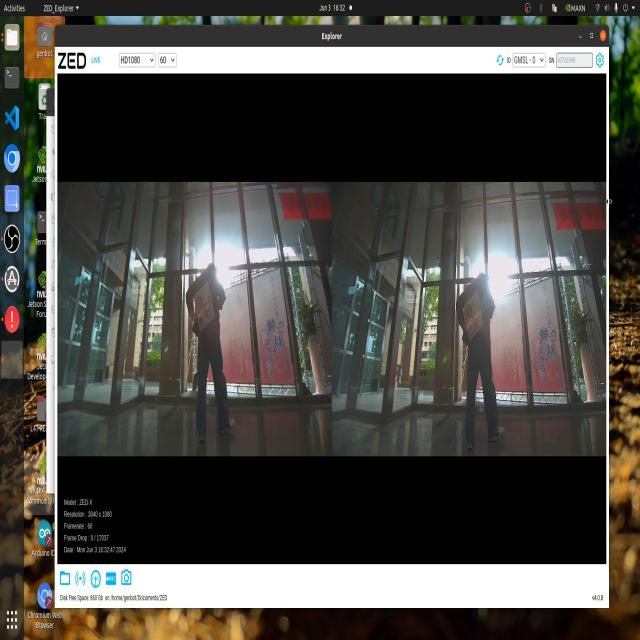red: (197, 288, 214, 346), (463, 294, 483, 342)
